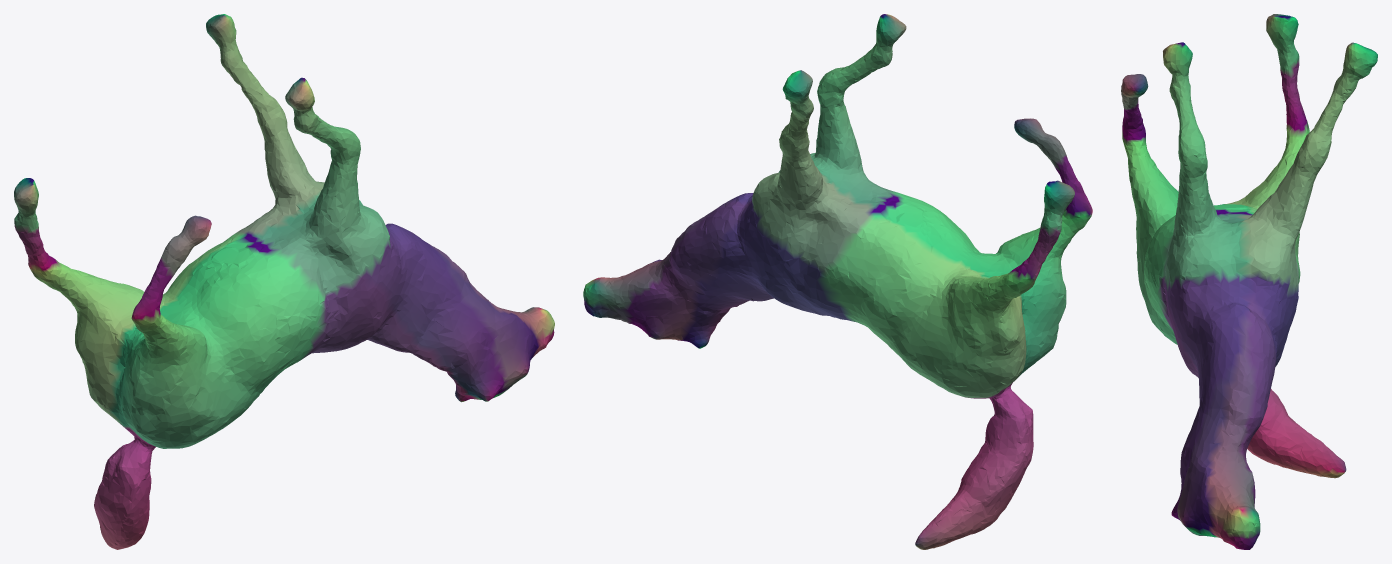
Rendered from horse-3.off.obj.
The picture shows the model from 3 angles, left to right: view 1: azimuth 30°, elevation 25°; view 2: azimuth 150°, elevation 25°; view 3: azimuth 270°, elevation 25°; orthographic projection. The views are drawn at different scales.
Bounding box in the file's own units: 1.52 × 1.32 × 0.6211.
